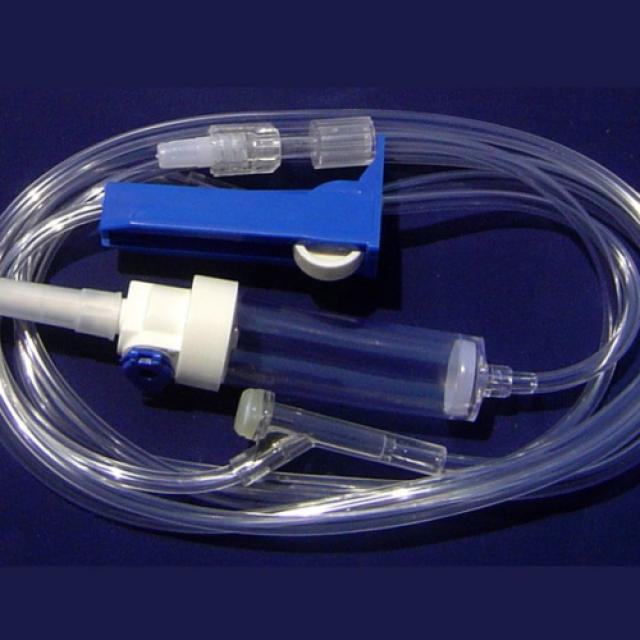B3: (3, 97, 640, 576)
